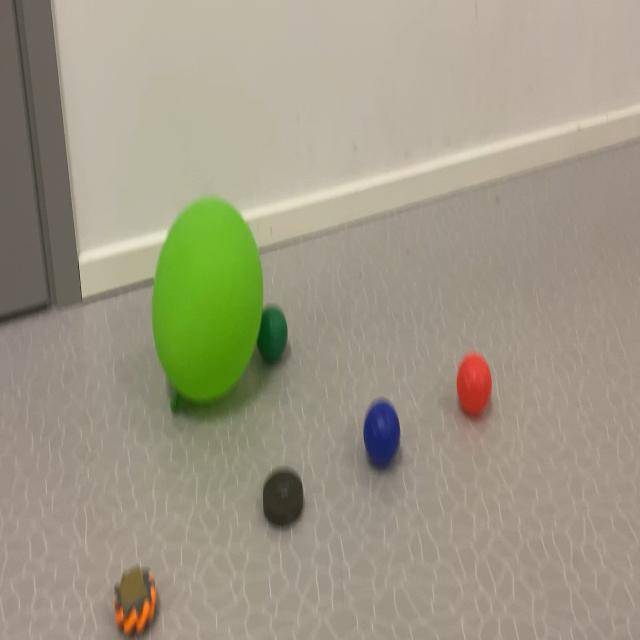7: (434, 333, 502, 470)
green ball: (352, 350, 404, 499)
red ball: (241, 278, 297, 414)
